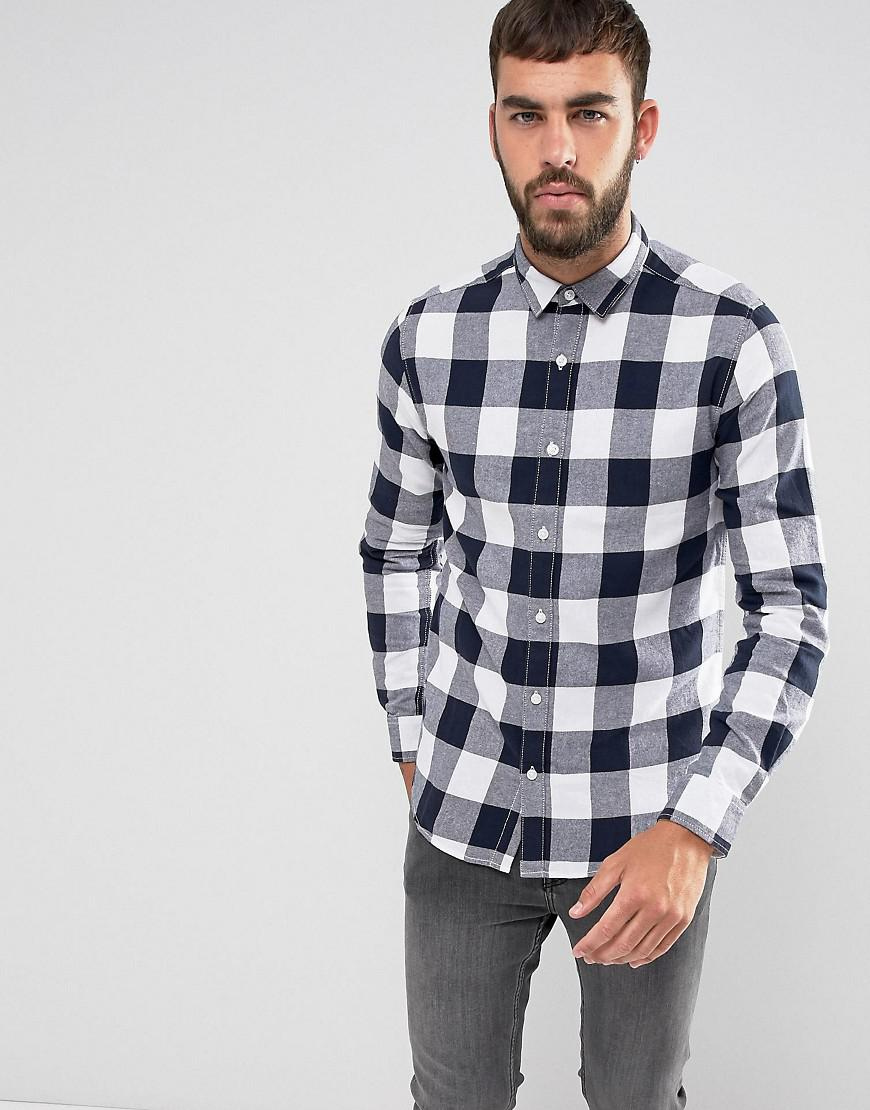teeshirt: (340, 200, 839, 888)
